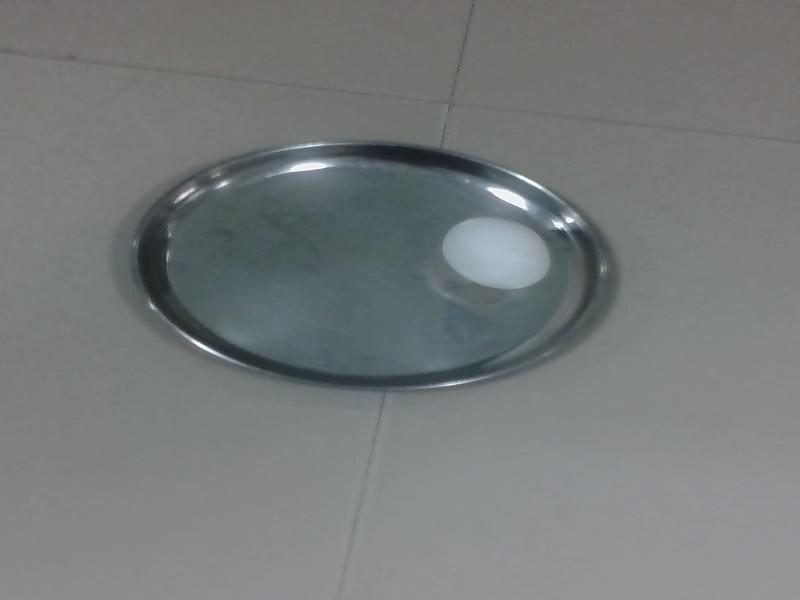egg: (442, 212, 556, 289)
